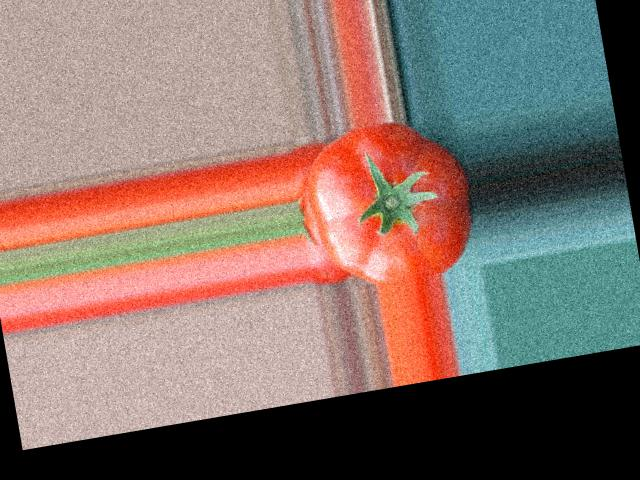tomato: (297, 109, 481, 293)
